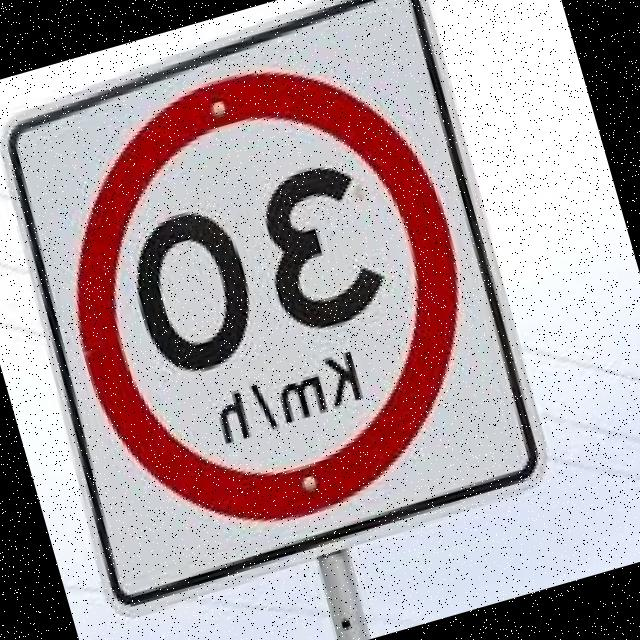speed_limit_30: (0, 20, 514, 575)
